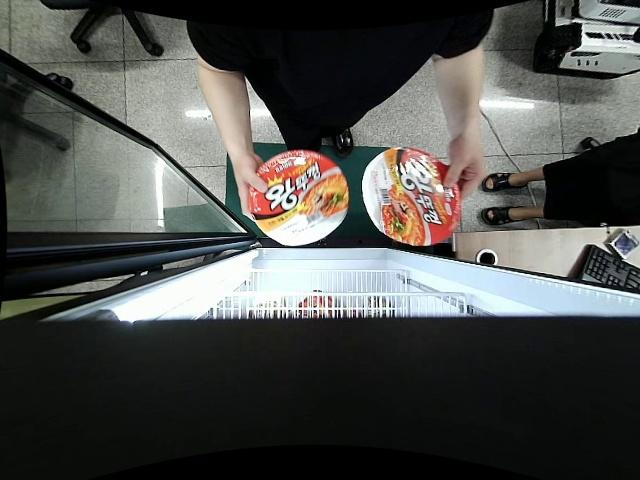00_hand: (445, 133, 487, 202), (233, 151, 269, 223)
10_wangTtukkeong: (363, 149, 460, 246), (251, 151, 349, 245)
